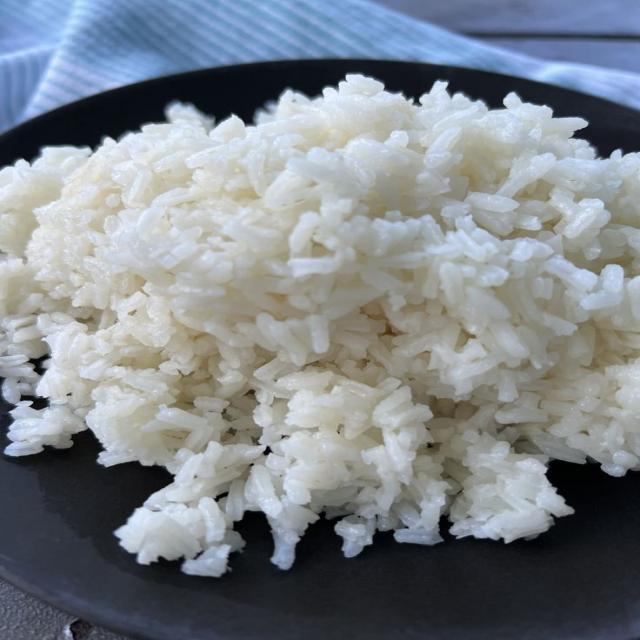rice: (0, 76, 639, 575)
